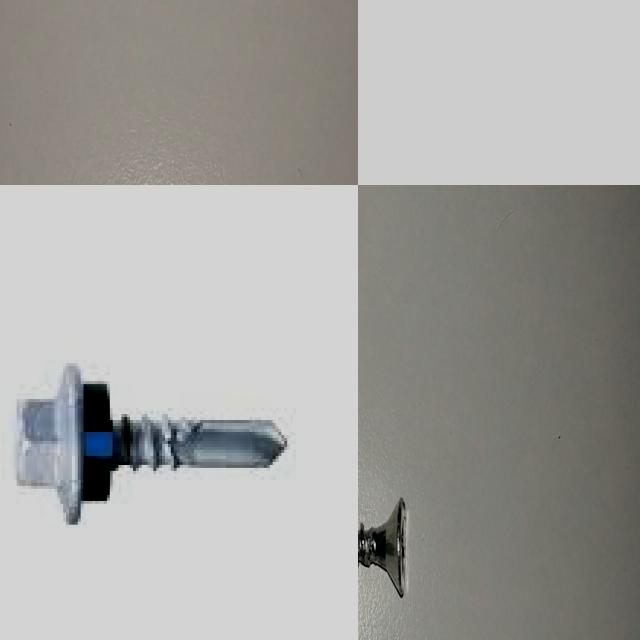Screw: (14, 366, 287, 525), (358, 497, 407, 596)
